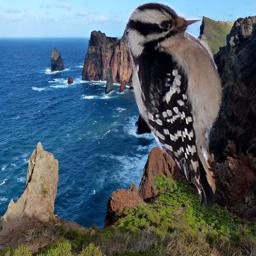Woodpecker: (125, 2, 247, 211)
